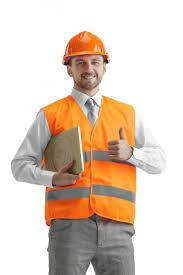hat: (55, 25, 126, 75)
vest: (32, 87, 154, 239)
